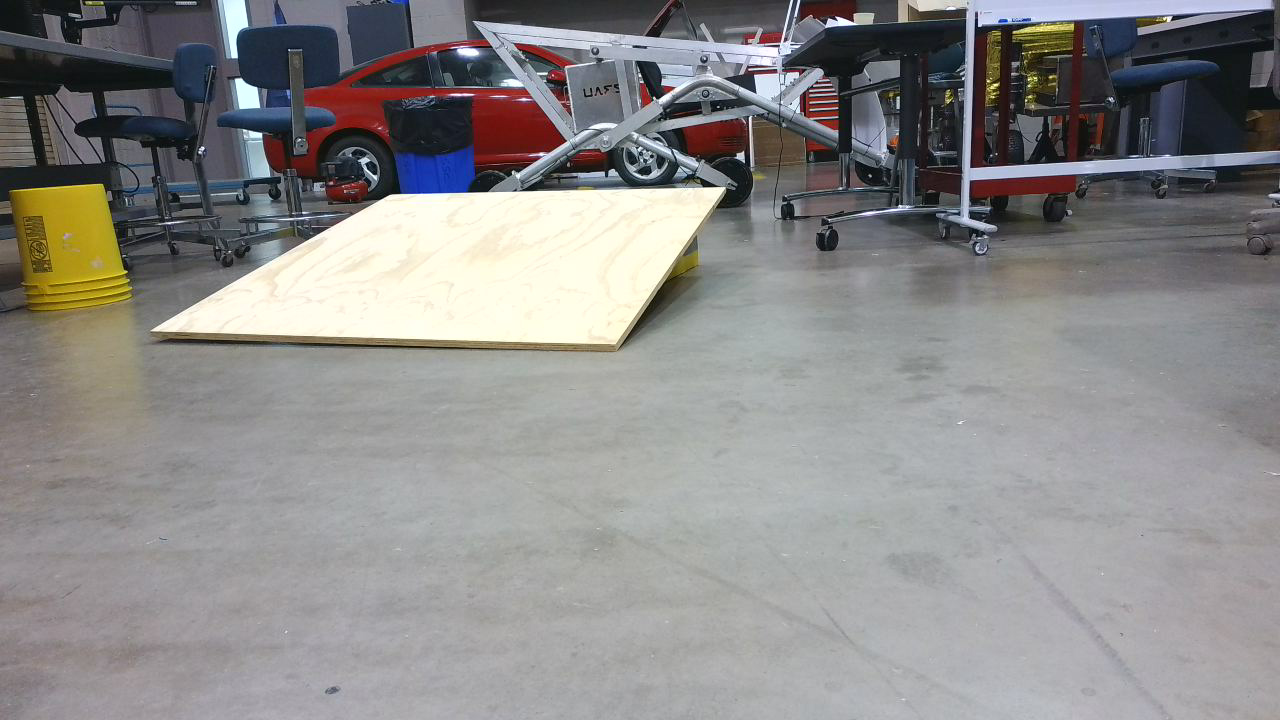concrete_block: (151, 188, 738, 358)
yellow_bucket: (9, 186, 141, 322)
